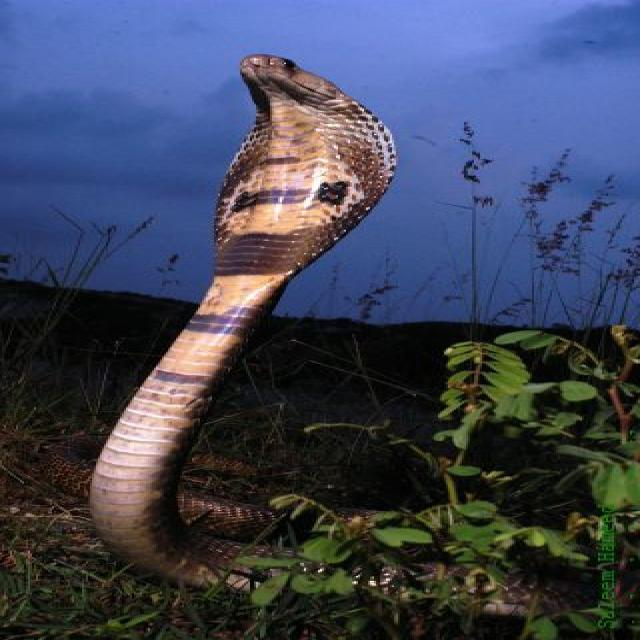Snake: (84, 52, 400, 593)
